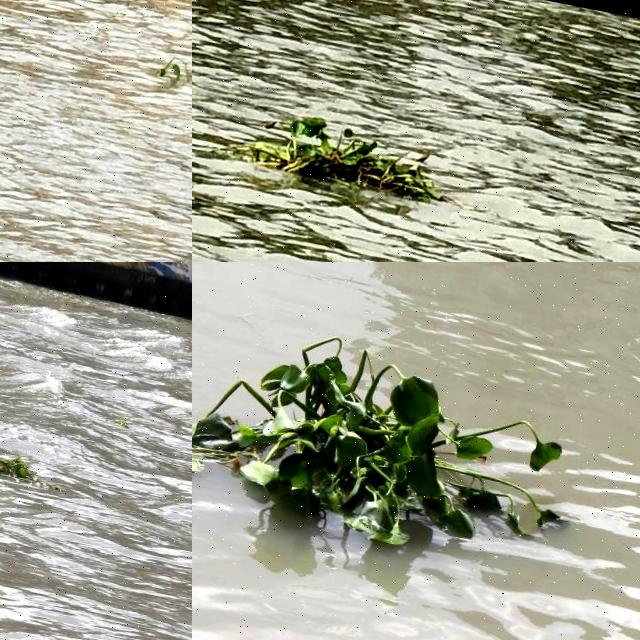water-hyacinth: (193, 324, 567, 548), (240, 105, 438, 213), (1, 448, 63, 497)
